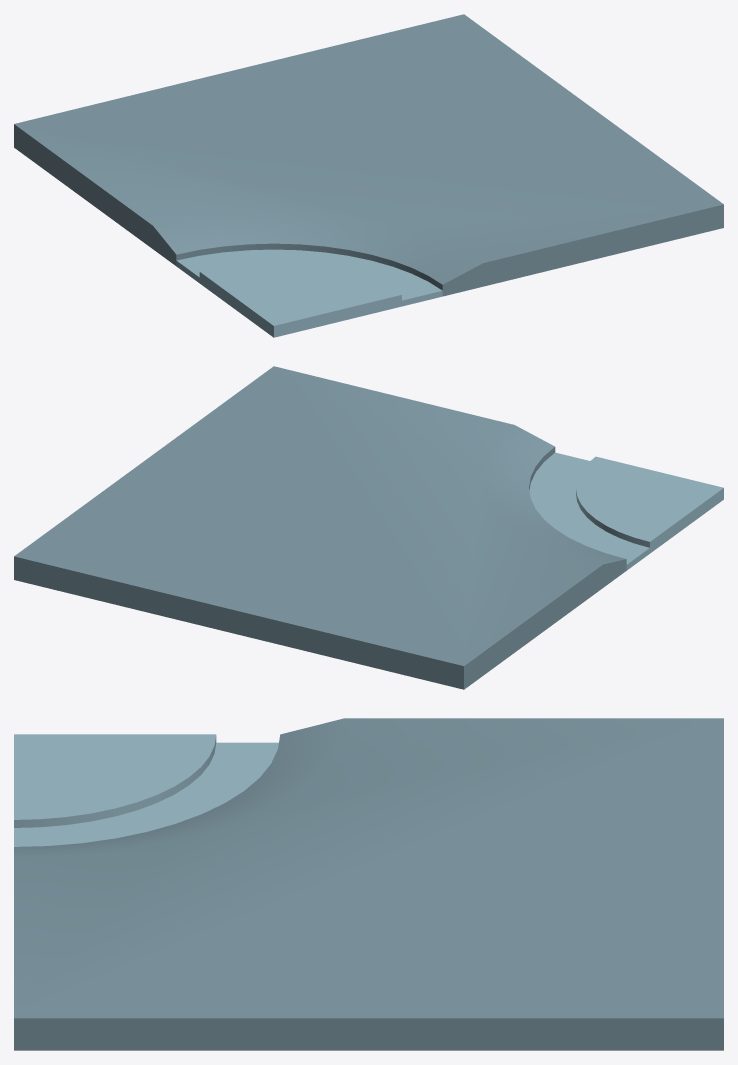
The model's file is roadCornerInner.fbx.
3 renders of one model, top to bottom at view 1: azimuth 30°, elevation 25°; view 2: azimuth 150°, elevation 25°; view 3: azimuth 270°, elevation 25°, orthographic. The views are drawn at different scales.
Visible parts, largest first — view 1: roadCornerInner; view 2: roadCornerInner; view 3: roadCornerInner.
Part boxes in pixels (x1,y1,x2,y2): roadCornerInner: (14, 14, 723, 337); roadCornerInner: (14, 366, 723, 689); roadCornerInner: (14, 718, 723, 1050).
Size of the model in its own units: 10 by 0.5 by 10.
